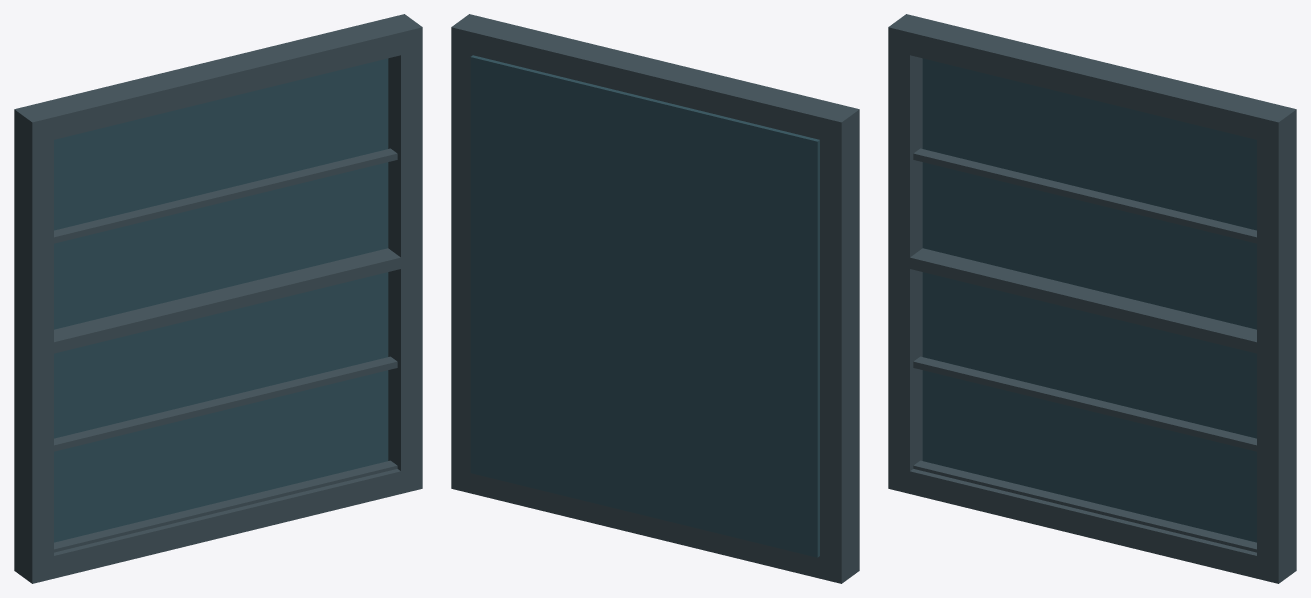
The model's file is window_20.glb.
3 renders of one model, left to right at view 1: azimuth 30°, elevation 25°; view 2: azimuth 150°, elevation 25°; view 3: azimuth 330°, elevation 25°, orthographic.
Parts seen in each view (by area): view 1: window_20; view 2: window_20; view 3: window_20.
Boxes of the visible parts, x1,y1,x2,y2 form: window_20: [14, 14, 422, 583]; window_20: [451, 14, 859, 583]; window_20: [888, 14, 1296, 583].
Size of the model in its own units: 1.62 by 1.83 by 0.1475.
